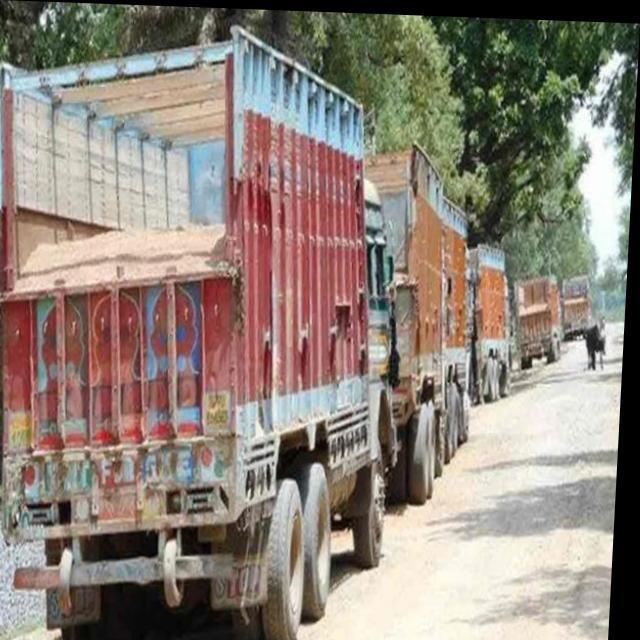uncovered: (0, 43, 366, 618), (378, 140, 481, 410), (378, 140, 452, 422), (508, 267, 570, 331), (468, 236, 512, 326), (562, 256, 605, 346)
